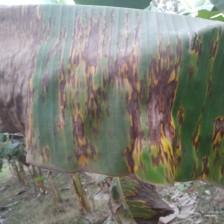sigatoka: (0, 4, 224, 188)
